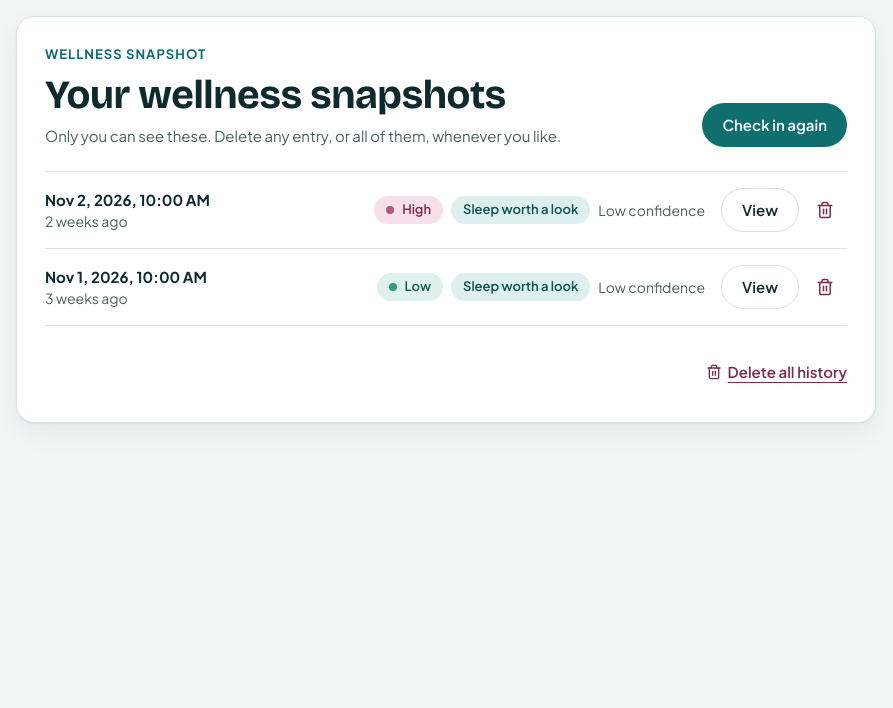
Test case: history › delete all needs DELETE typed first
Click the button "Delete all history" at (776, 372), box [706, 350, 847, 394]
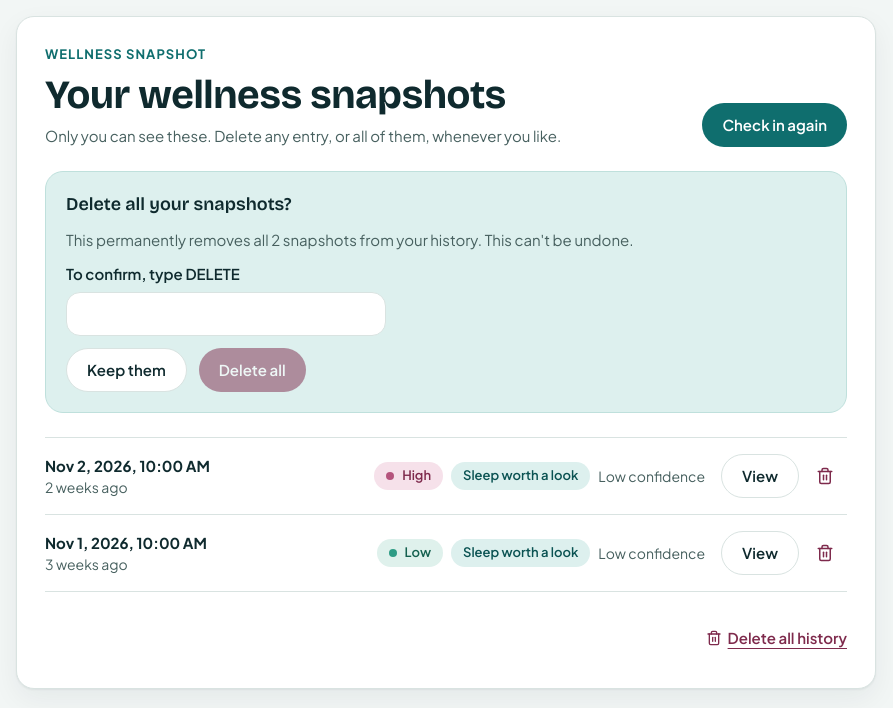
Expected: the button "Delete all" is disabled, [199, 348, 306, 392]
Type "delete" into the field labelled "To confirm, type DELETE" at (226, 314), box [66, 292, 386, 336]
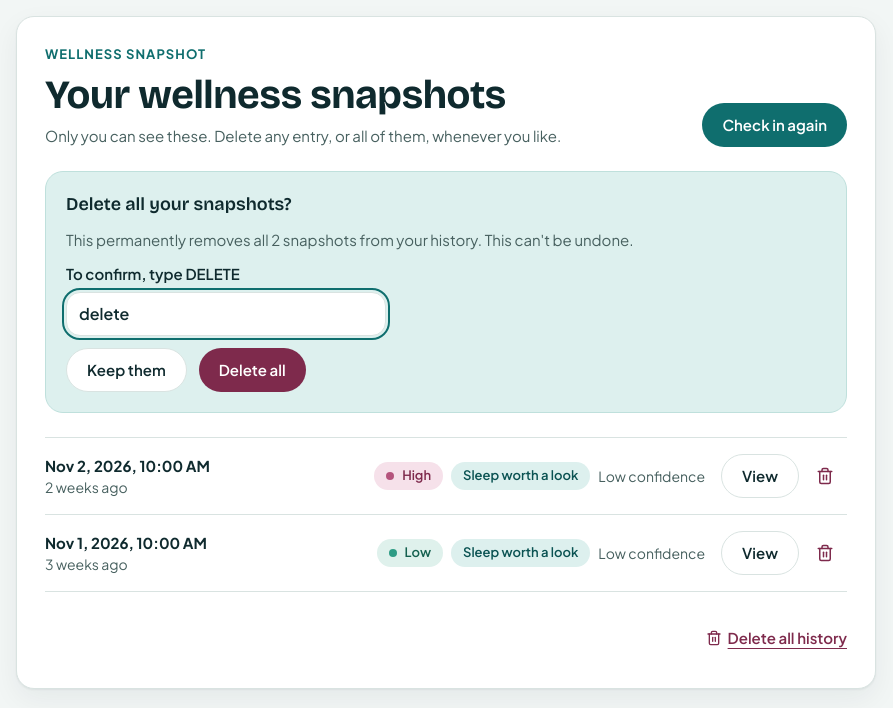
Expected: the button "Delete all" is enabled
Click the button "Delete all" at (252, 370), box [199, 348, 306, 392]
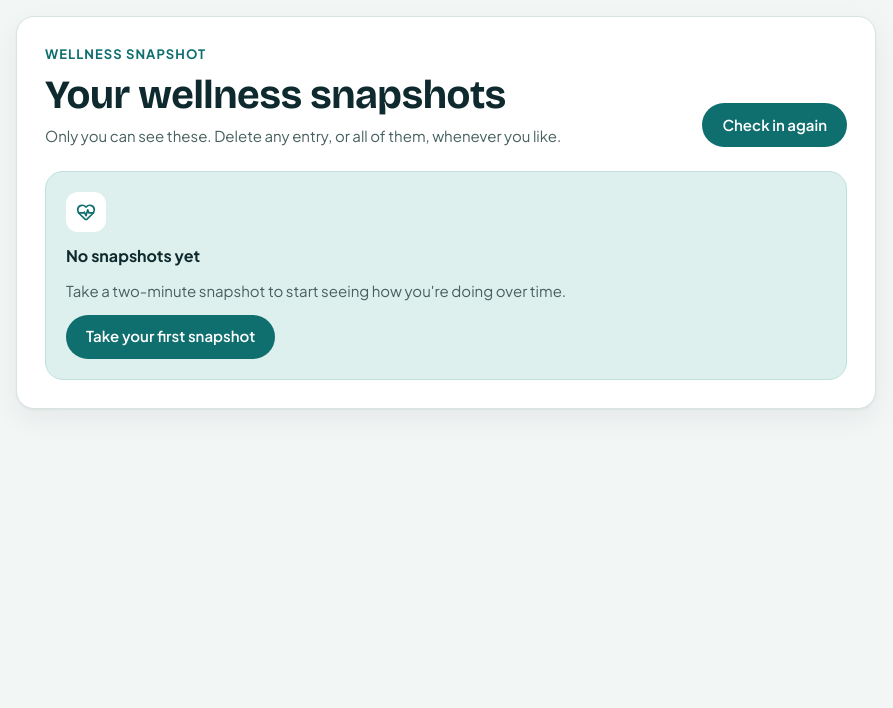
Expected: the text "No snapshots yet" is shown, [66, 244, 200, 268]
